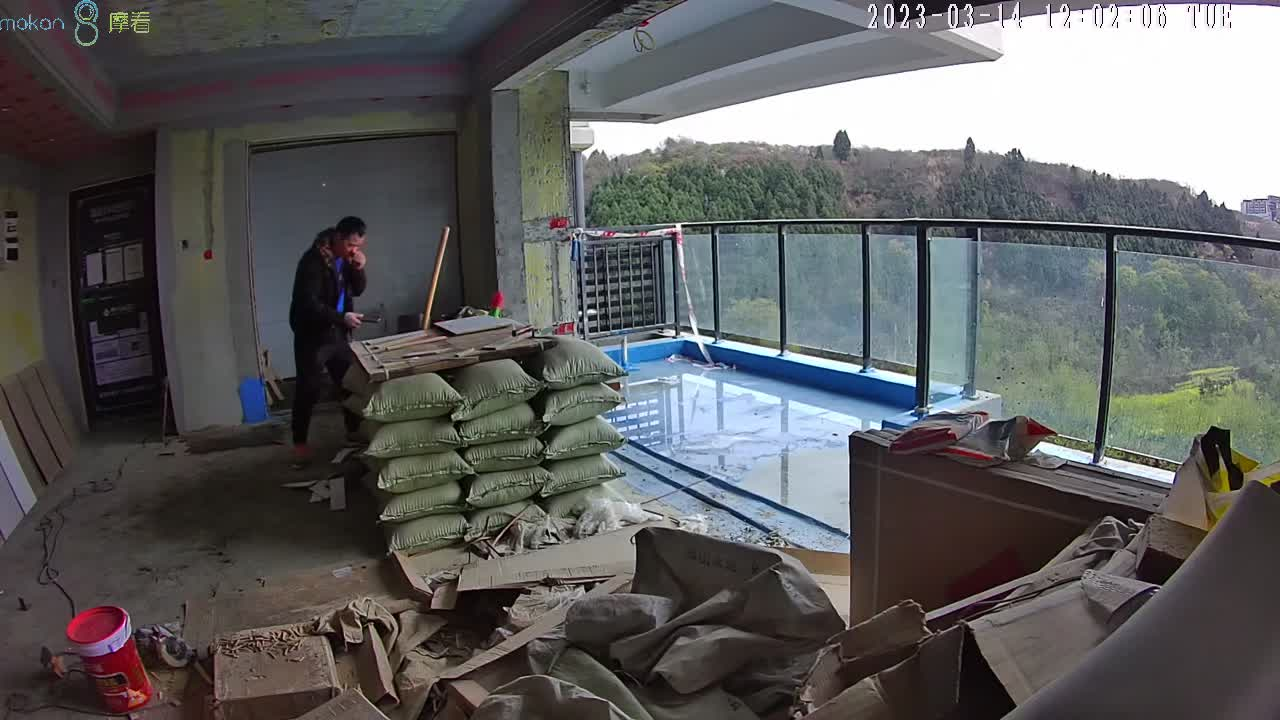people: (286, 214, 372, 469)
window: (658, 129, 1280, 486)
